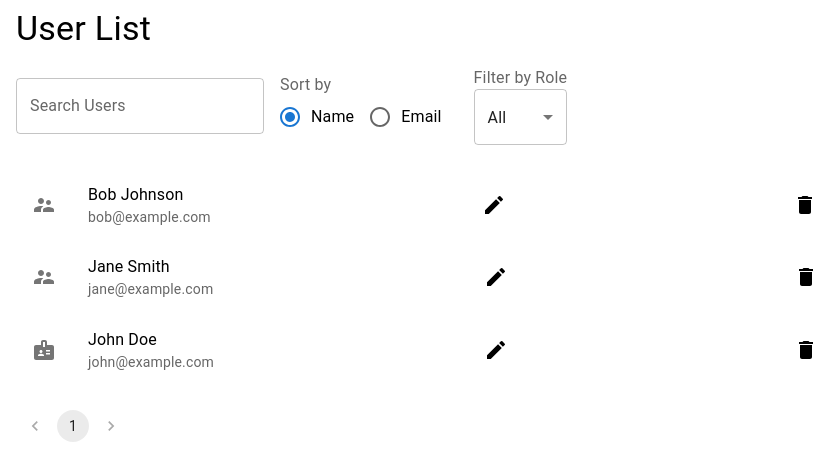
Scenario: UserEmployeeListSchwer › handles user deletion
Check: the text "John Doe" is shown, box top-left (88, 330), bottom-right (157, 348)
What coordinates should you click on to do the following:
click the button named "delete-John Doe"
I would click on:
 (806, 350)
Its box is top-left (794, 338), bottom-right (818, 362).
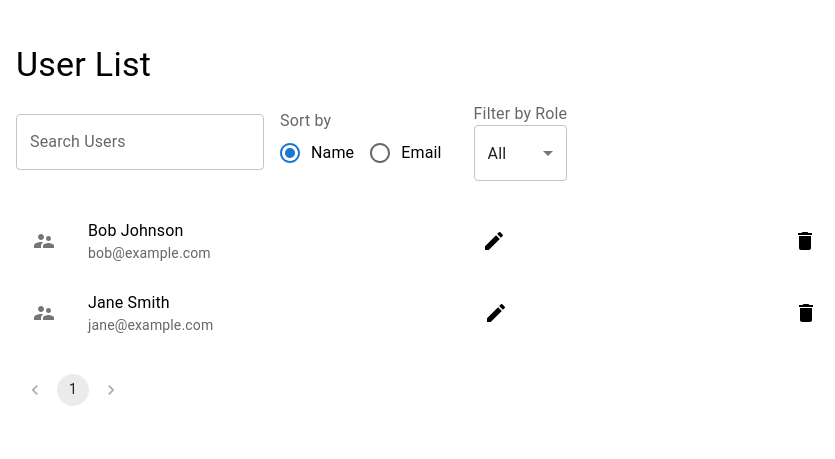
Check: the text "John Doe" is gone
